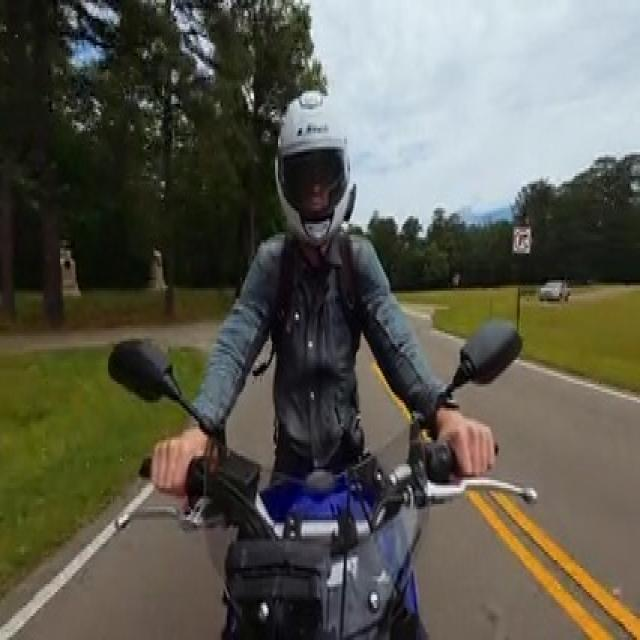Helmet_Wearer: (263, 79, 361, 244)
Person: (159, 78, 492, 484)
